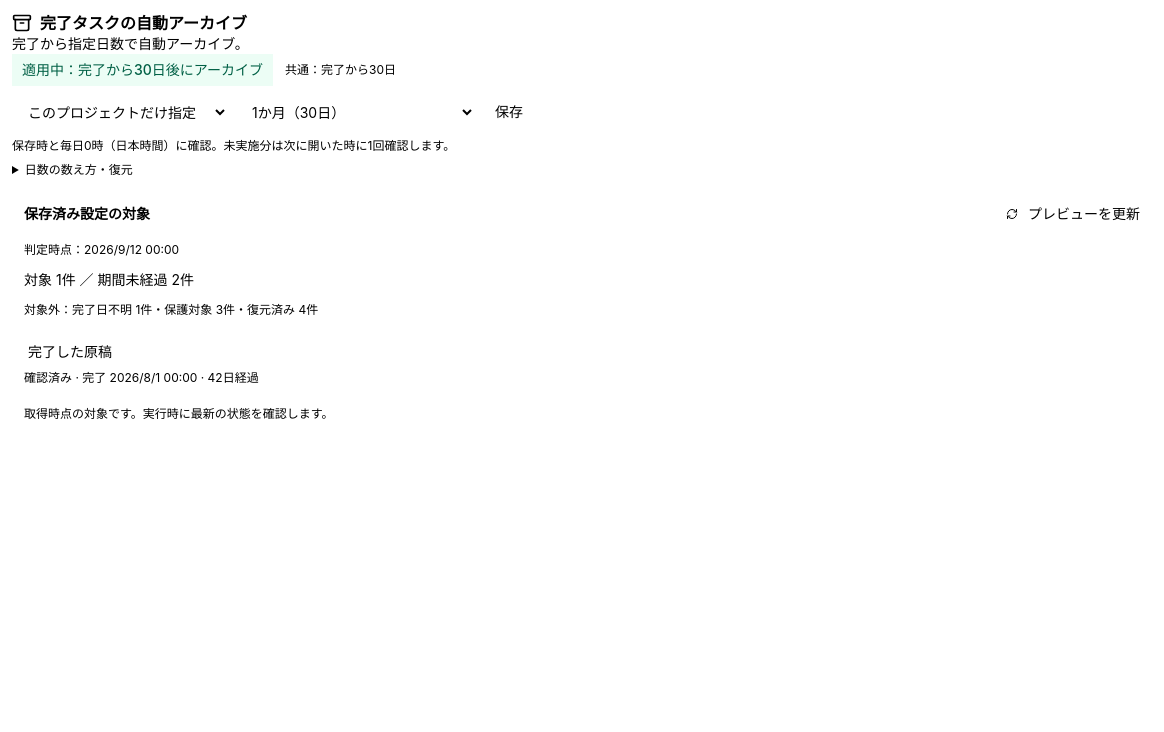
Test case: AutoArchiveSettings server policy › retains unsaved input after failure and retries the same revision and desired setting
Check: the 1st dropdown is enabled, box [12, 94, 228, 130]
Select "指定日数" in the 2nd dropdown named "完了からの期間" at (356, 112), box [236, 94, 475, 130]
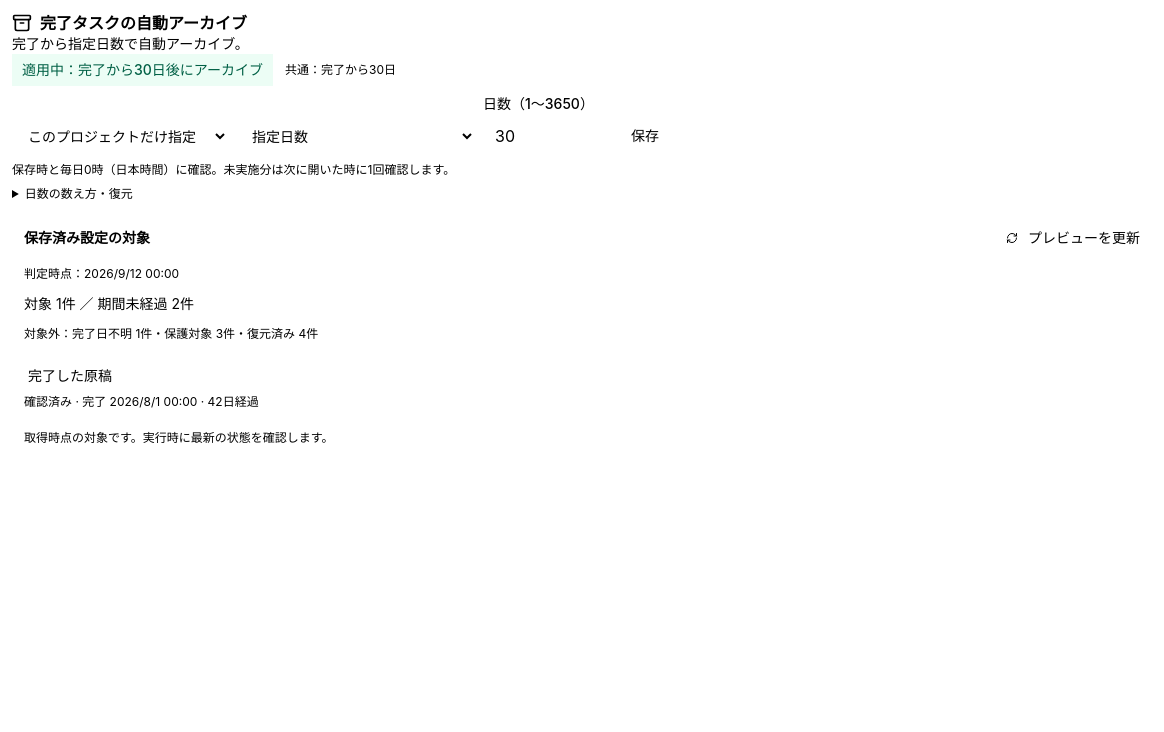
Replace the text in the number field labelled "日数（1〜3650）" with "17" at (547, 136), box [483, 118, 611, 154]
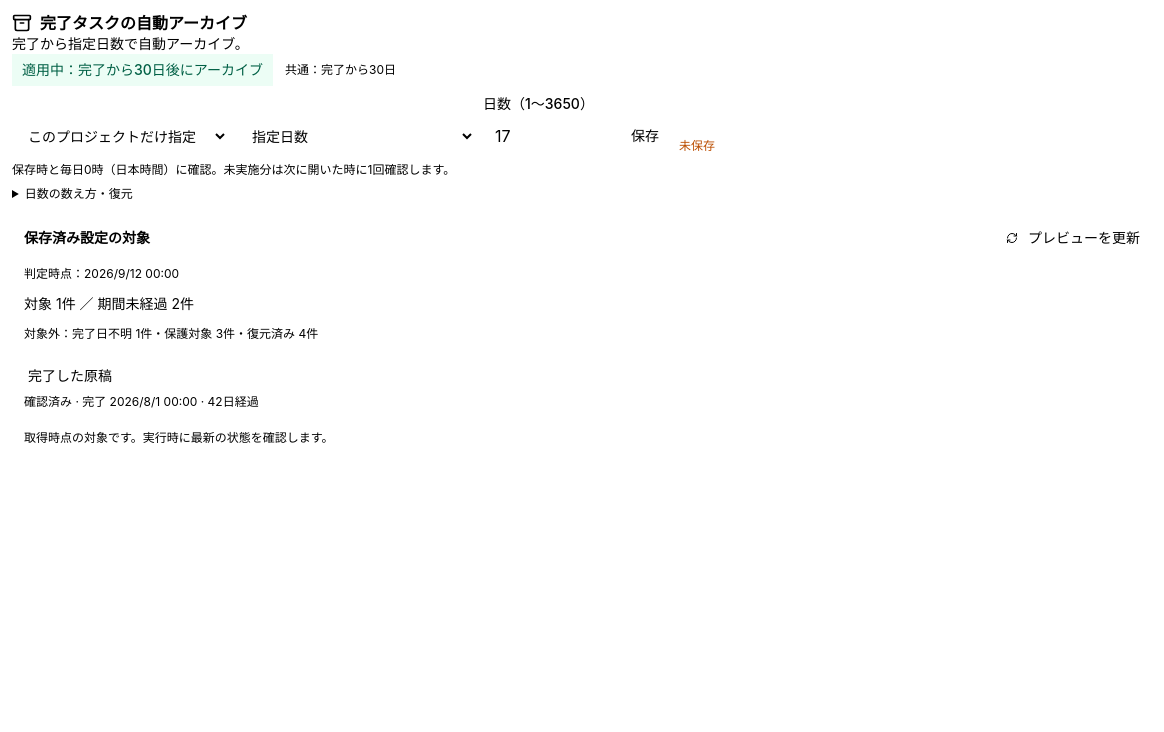
Click the button "保存" at (645, 136), box [619, 118, 671, 154]
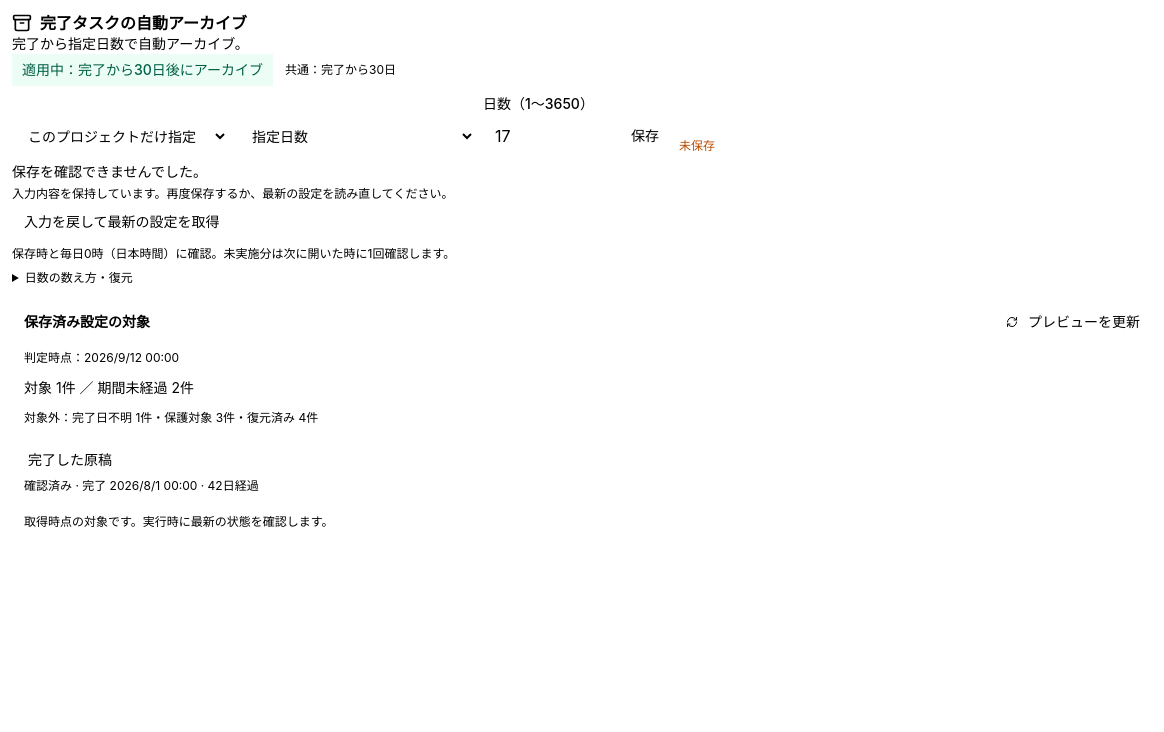
Check: the text "適用中：完了から30日後にアーカイブ" is shown, box [12, 54, 273, 86]
Check: the button "プレビューを更新" is disabled, box [994, 306, 1152, 338]
Check: the message shows "入力内容を保持しています", box [12, 186, 454, 201]
Click the button "保存" at (645, 136), box [619, 118, 671, 154]
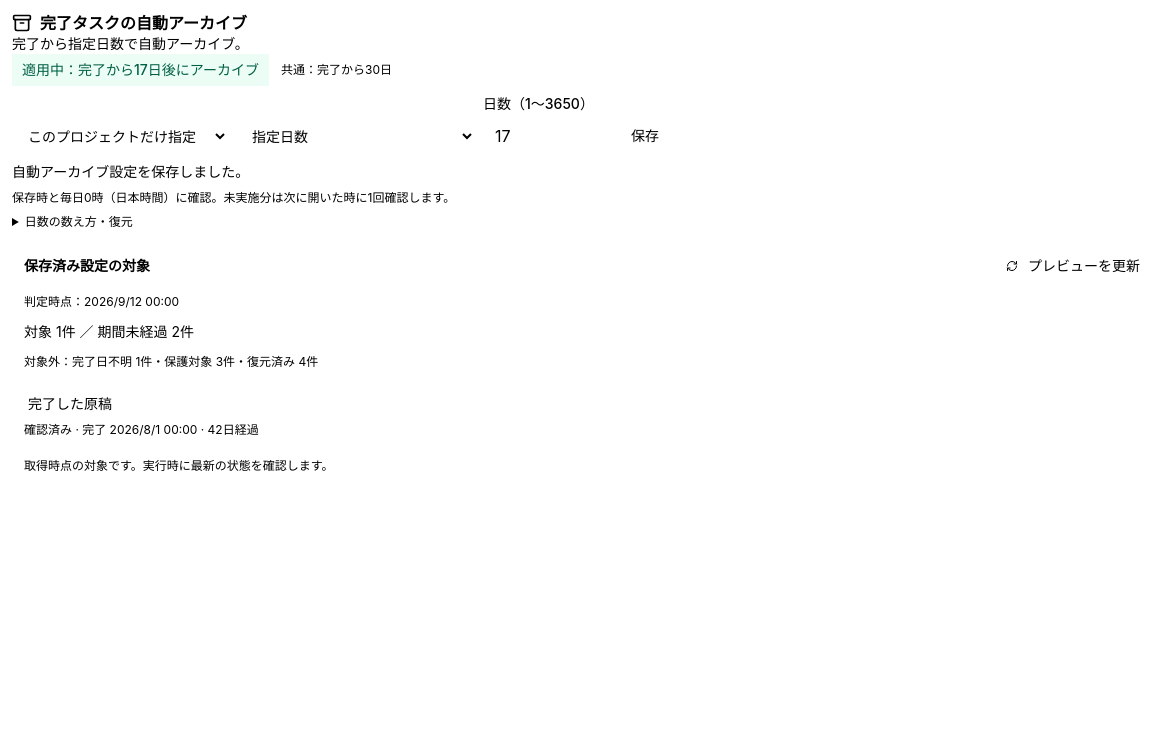
Check: the text "適用中：完了から17日後にアーカイブ" is shown, box [12, 54, 269, 86]
